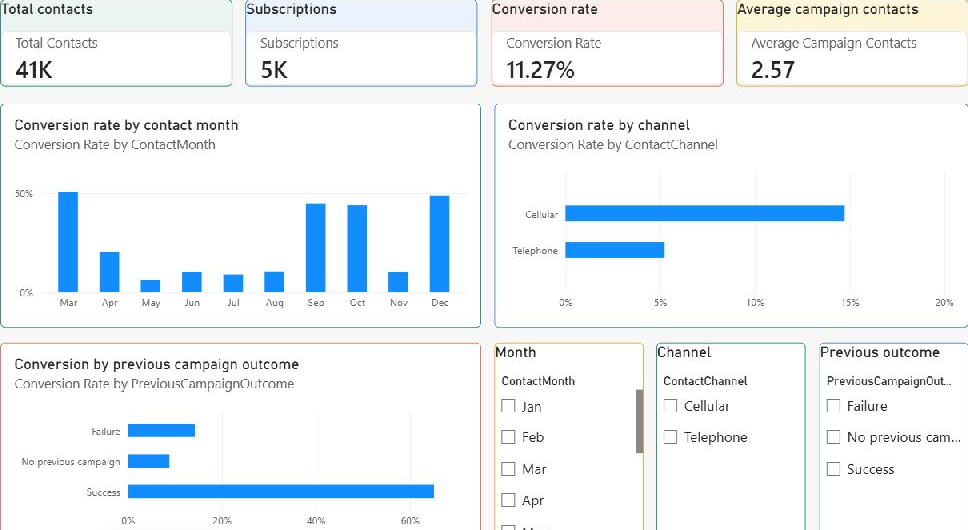

This screenshot's page, from the dashboard's own definition file:
{"tool":"powerbi","page":{"name":"Campaign Overview","canvas":[1280,720],"ordinal":0},"visuals":[{"type":"cardVisual","title":"Total contacts","fields":{"Data":["KPI Measures.Total Contacts"]},"box":[24,24,280,105],"z":1000},{"type":"cardVisual","title":"Subscriptions","fields":{"Data":["KPI Measures.Subscriptions"]},"box":[320,24,280,105],"z":2000},{"type":"cardVisual","title":"Conversion rate","fields":{"Data":["KPI Measures.Conversion Rate"]},"box":[616,24,280,105],"z":3000},{"type":"cardVisual","title":"Average campaign contacts","fields":{"Data":["KPI Measures.Average Campaign Contacts"]},"box":[912,24,280,105],"z":4000},{"type":"clusteredColumnChart","title":"Conversion rate by contact month","fields":{"Category":["Month.ContactMonth"],"Y":["KPI Measures.Conversion Rate"]},"box":[24,150,580,270],"z":5000},{"type":"clusteredBarChart","title":"Conversion rate by channel","fields":{"Category":["fct_CampaignContact.ContactChannel"],"Y":["KPI Measures.Conversion Rate"]},"box":[620,150,572,270],"z":6000},{"type":"clusteredBarChart","title":"Conversion by previous campaign outcome","fields":{"Category":["fct_CampaignContact.PreviousCampaignOutcome"],"Y":["KPI Measures.Conversion Rate"]},"box":[24,438,580,246],"z":7000},{"type":"slicer","title":"Month","fields":{"Values":["Month.ContactMonth"]},"box":[620,438,180,246],"z":8000},{"type":"slicer","title":"Channel","fields":{"Values":["fct_CampaignContact.ContactChannel"]},"box":[816,438,180,246],"z":9000},{"type":"slicer","title":"Previous outcome","fields":{"Values":["fct_CampaignContact.PreviousCampaignOutcome"]},"box":[1012,438,180,246],"z":10000}]}

Visuals, with their boxes in screenshot pixels (x1, y1, x2, y2), scaled from the page's 1280x720 canvas onto the 968x530 screenshot:
"Total contacts" cardVisual: [18,18,230,95]
"Subscriptions" cardVisual: [242,18,454,95]
"Conversion rate" cardVisual: [466,18,678,95]
"Average campaign contacts" cardVisual: [690,18,901,95]
"Conversion rate by contact month" clusteredColumnChart: [18,110,457,309]
"Conversion rate by channel" clusteredBarChart: [469,110,901,309]
"Conversion by previous campaign outcome" clusteredBarChart: [18,322,457,504]
"Month" slicer: [469,322,605,504]
"Channel" slicer: [617,322,753,504]
"Previous outcome" slicer: [765,322,901,504]
